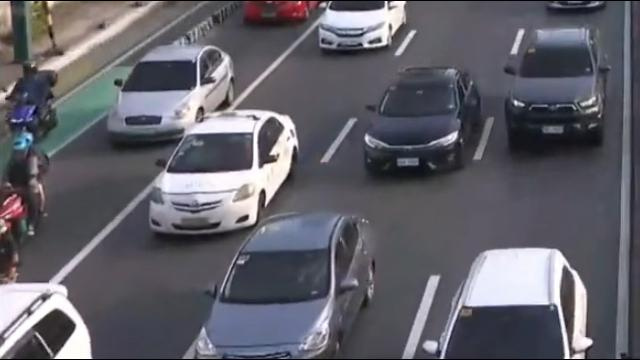car: (201, 206, 390, 360), (134, 104, 301, 248), (421, 235, 601, 360), (495, 19, 617, 154), (360, 57, 487, 183), (102, 39, 235, 155), (0, 282, 92, 359), (318, 1, 406, 52), (242, 1, 320, 26)
motorcycle: (0, 133, 55, 241), (3, 58, 58, 146)
